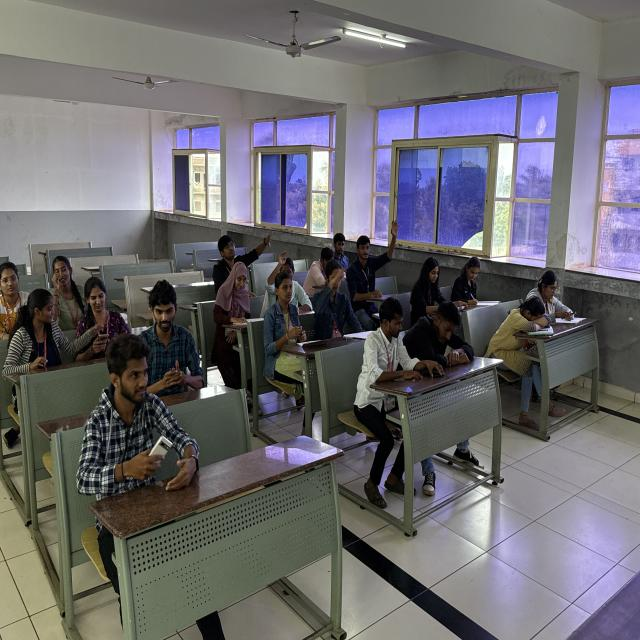Hand Rising: (348, 217, 402, 297)
Sleeping: (483, 292, 556, 348)
Using Phone: (64, 327, 194, 489), (73, 276, 133, 360), (525, 266, 581, 326)
Writing: (261, 270, 321, 348), (213, 259, 264, 330), (454, 253, 498, 310)
